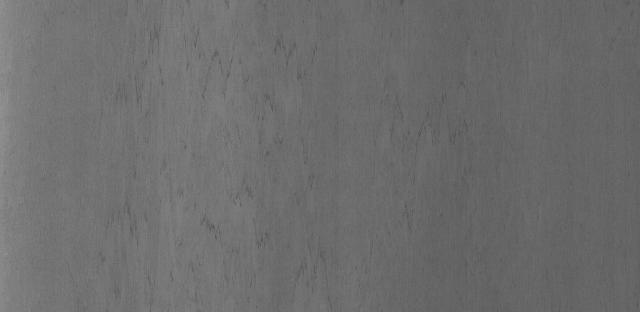silk_spot: (118, 21, 339, 289)
